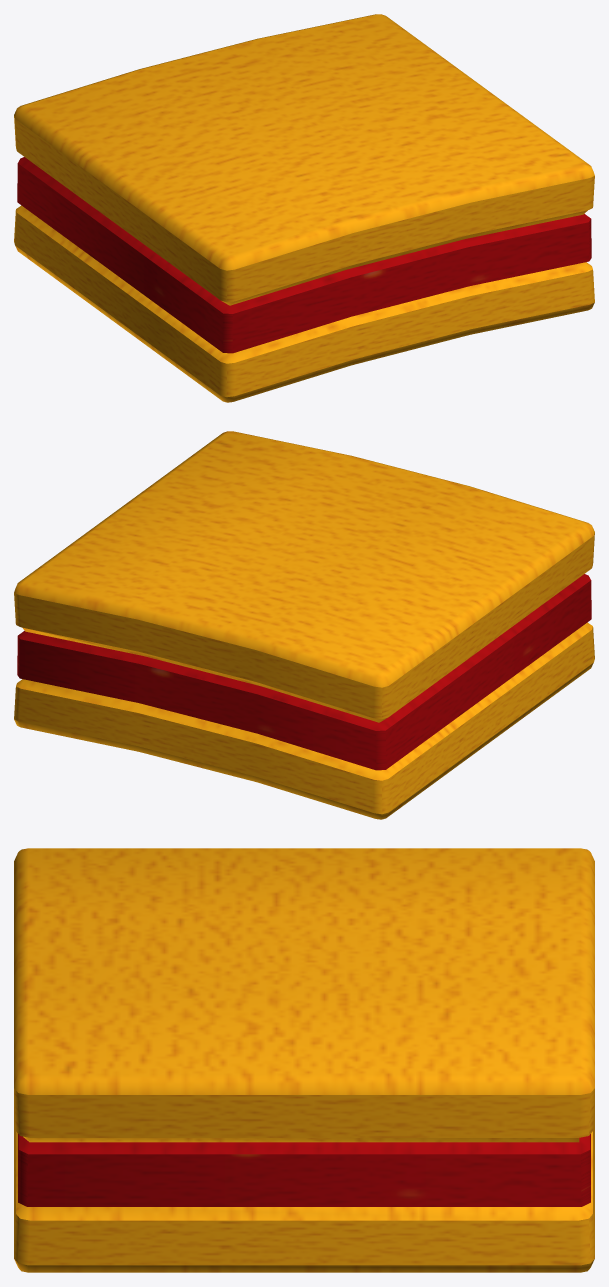
File: LayersSquare2_UV_FBX.fbx
The picture shows the model from 3 angles, top to bottom: view 1: azimuth 30°, elevation 25°; view 2: azimuth 150°, elevation 25°; view 3: azimuth 270°, elevation 25°; orthographic projection. The views are drawn at different scales.
Visible parts, largest first — view 1: 3layer; view 2: 3layer; view 3: 3layer.
Boxes of the visible parts, bbox=[...] form: 3layer: bbox=[14, 14, 594, 402]; 3layer: bbox=[14, 431, 594, 819]; 3layer: bbox=[14, 848, 594, 1272].
Size of the model in its own units: 120 by 47.71 by 120.
